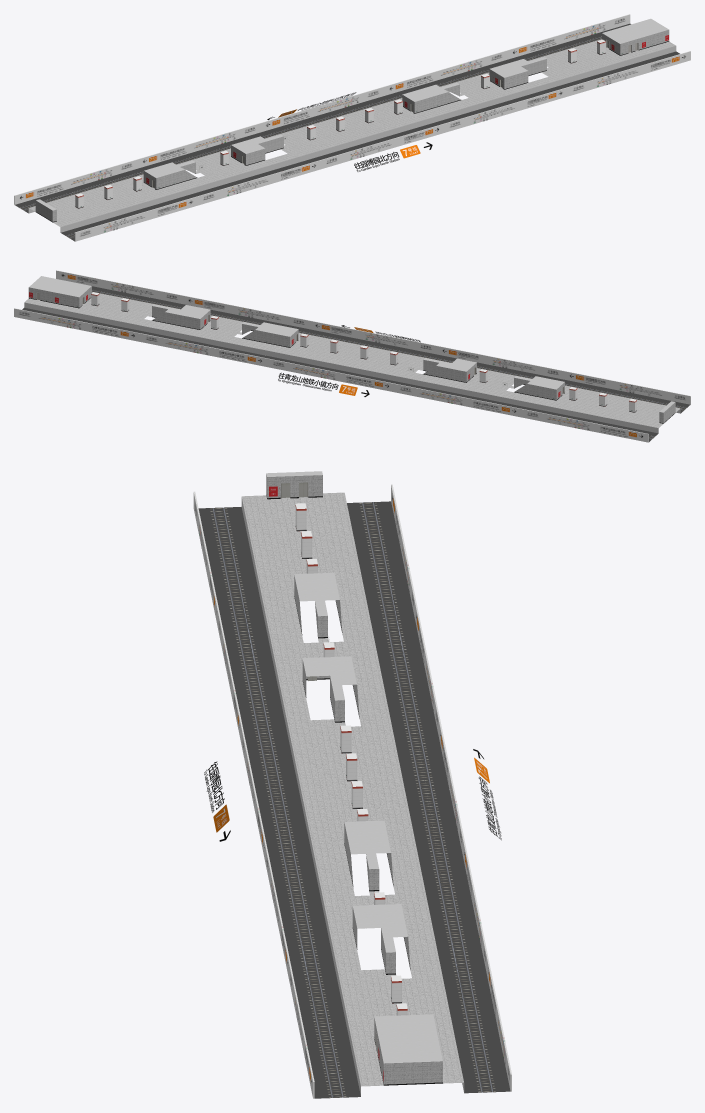
3 renders of one model, top to bottom at view 1: azimuth 30°, elevation 25°; view 2: azimuth 150°, elevation 25°; view 3: azimuth 270°, elevation 25°, orthographic. The views are drawn at different scales.
Parts seen in each view (by area): view 1: road-b3-2, B3_房间, 7号线青龙山方向, 7号线园博园方向, 轨道03, b3-水泥, 轨道04, 7号线园博园北方向; view 2: road-b3-2, 7号线青龙山方向, 7号线园博园方向, B3_房间, b3-水泥, 轨道04, 轨道03, 7号线青龙山地铁小镇方向002; view 3: road-b3-2, 轨道03, 轨道04, B3_房间, 7号线园博园方向, 7号线青龙山方向, b3-水泥.
Boxes of the visible parts, <box> form: road-b3-2: <box>29,39,675,226</box>; B3_房间: <box>35,18,669,222</box>; 7号线青龙山方向: <box>14,14,630,204</box>; 7号线园博园方向: <box>74,51,690,241</box>; 轨道03: <box>15,23,630,213</box>; b3-水泥: <box>28,46,676,232</box>; 轨道04: <box>61,51,679,241</box>; 7号线园博园北方向: <box>354,142,432,171</box>; road-b3-2: <box>24,292,680,427</box>; 7号线青龙山方向: <box>14,308,648,442</box>; 7号线园博园方向: <box>56,270,690,404</box>; B3_房间: <box>28,276,675,423</box>; b3-水泥: <box>24,302,680,433</box>; 轨道04: <box>92,286,690,413</box>; 轨道03: <box>22,307,658,441</box>; 7号线青龙山地铁小镇方向002: <box>278,372,369,396</box>; road-b3-2: <box>241,492,463,1086</box>; 轨道03: <box>347,501,510,1093</box>; 轨道04: <box>198,507,360,1098</box>; B3_房间: <box>266,471,442,1085</box>; 7号线园博园方向: <box>193,491,314,1098</box>; 7号线青龙山方向: <box>391,484,511,1091</box>; b3-水泥: <box>241,497,464,1095</box>.
Size of the model in its own units: 182 by 6.53 by 41.45.
20 materials, 20 textured.
